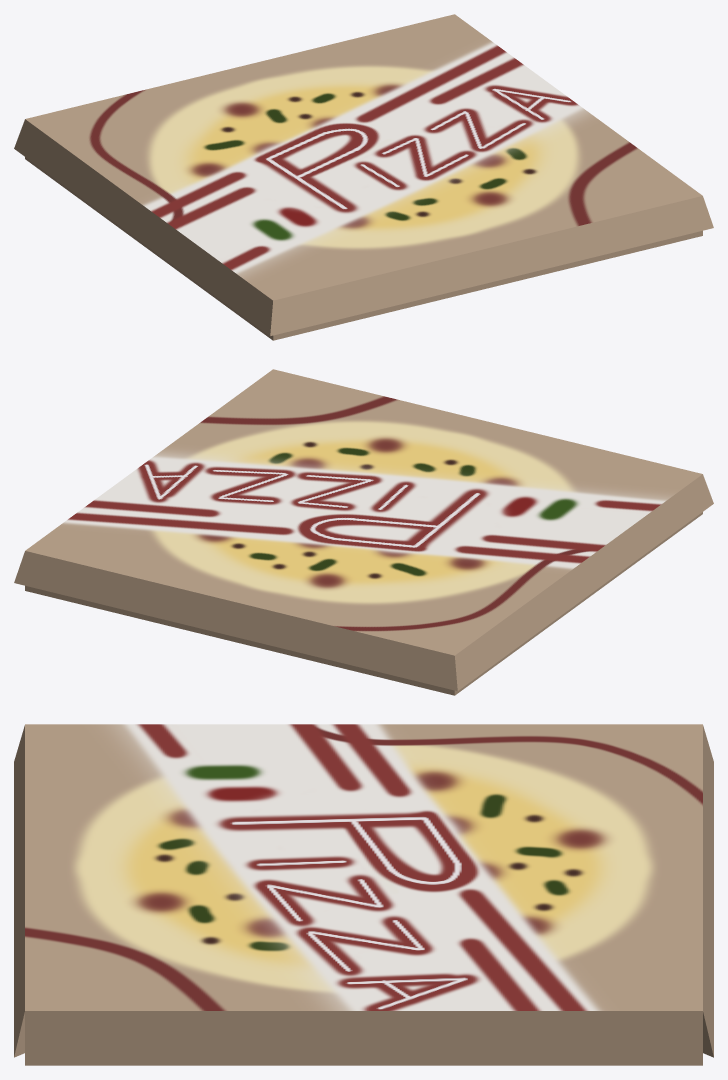
Rendered from pizza_box.fbx.
3 renders of one model, top to bottom at view 1: azimuth 30°, elevation 25°; view 2: azimuth 150°, elevation 25°; view 3: azimuth 270°, elevation 25°, orthographic. The views are drawn at different scales.
Parts seen in each view (by area): view 1: pizza_box; view 2: pizza_box; view 3: pizza_box.
Part boxes in pixels (bbox=[...]): pizza_box: bbox=[14, 14, 713, 340]; pizza_box: bbox=[14, 369, 713, 695]; pizza_box: bbox=[14, 724, 713, 1065].
Size of the model in its own units: 381 by 32.93 by 381.
